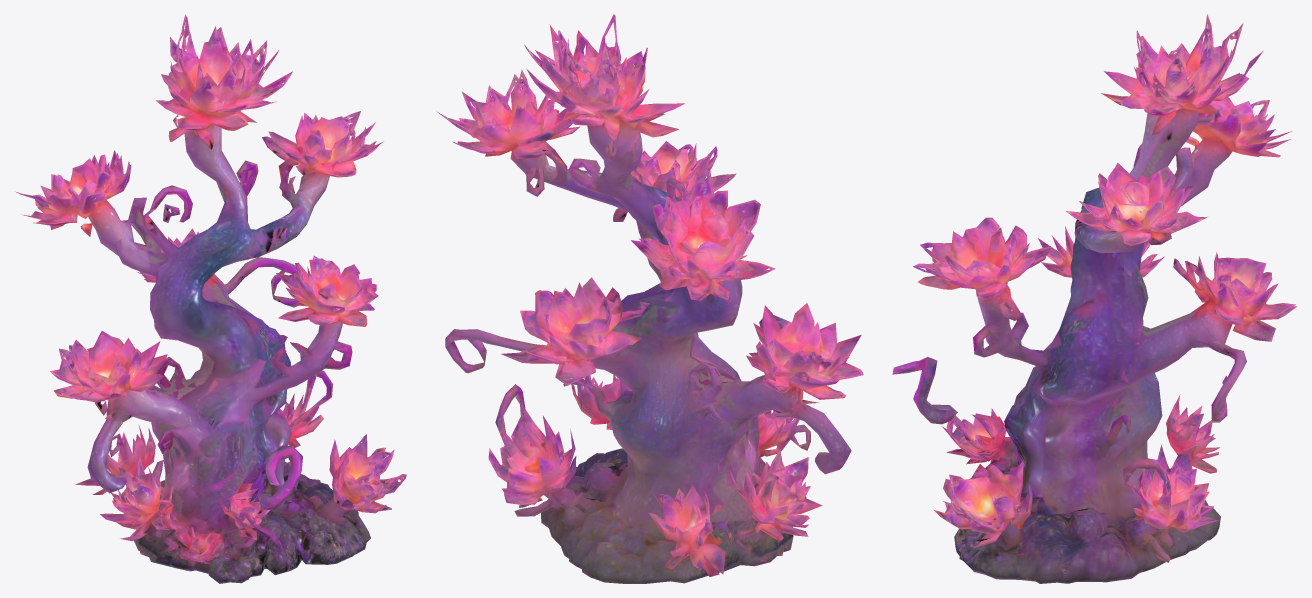
The model's file is a_bizarre_alien_plant.glb.
3 renders of one model, left to right at view 1: azimuth 30°, elevation 25°; view 2: azimuth 150°, elevation 25°; view 3: azimuth 270°, elevation 25°, orthographic. The views are drawn at different scales.
Visible parts, largest first — view 1: Object_4; view 2: Object_4; view 3: Object_4.
Boxes of the visible parts, left/top/right/bottom form: Object_4: left=15, top=14, right=406, bottom=583; Object_4: left=436, top=14, right=863, bottom=583; Object_4: left=892, top=14, right=1296, bottom=583.
Bounding box in the file's own units: 1.45 × 1.94 × 1.37.
Materials: 1 (1 with a texture image).
